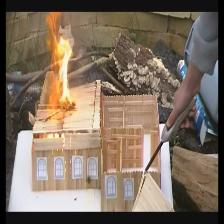fire: (42, 21, 72, 126)
